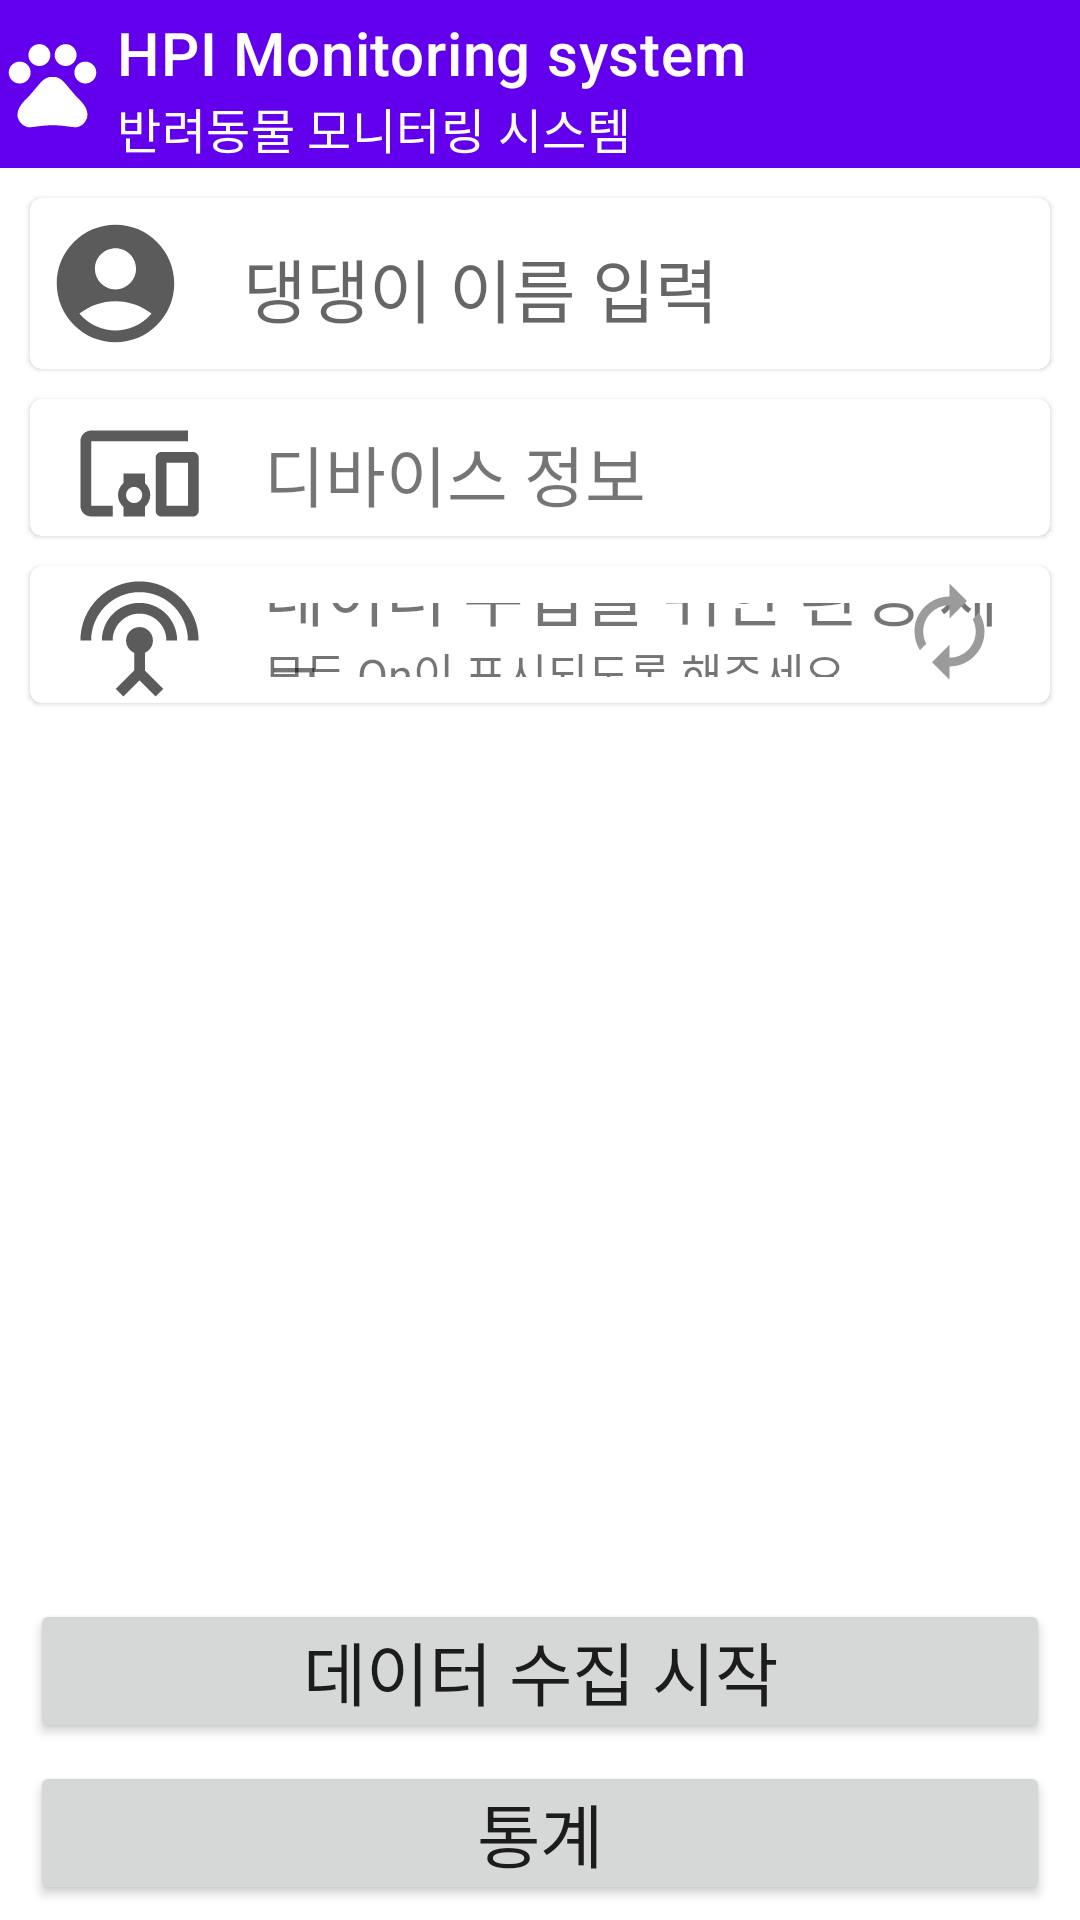

Locate icon controls on the screen. Image size 1080px x 1920px, boxes as bbox=[x1, y1, x2, y2].
account circle: bbox=[56, 224, 175, 343]
devices other: bbox=[80, 430, 199, 517]
settings input antenna: bbox=[80, 581, 199, 697]
